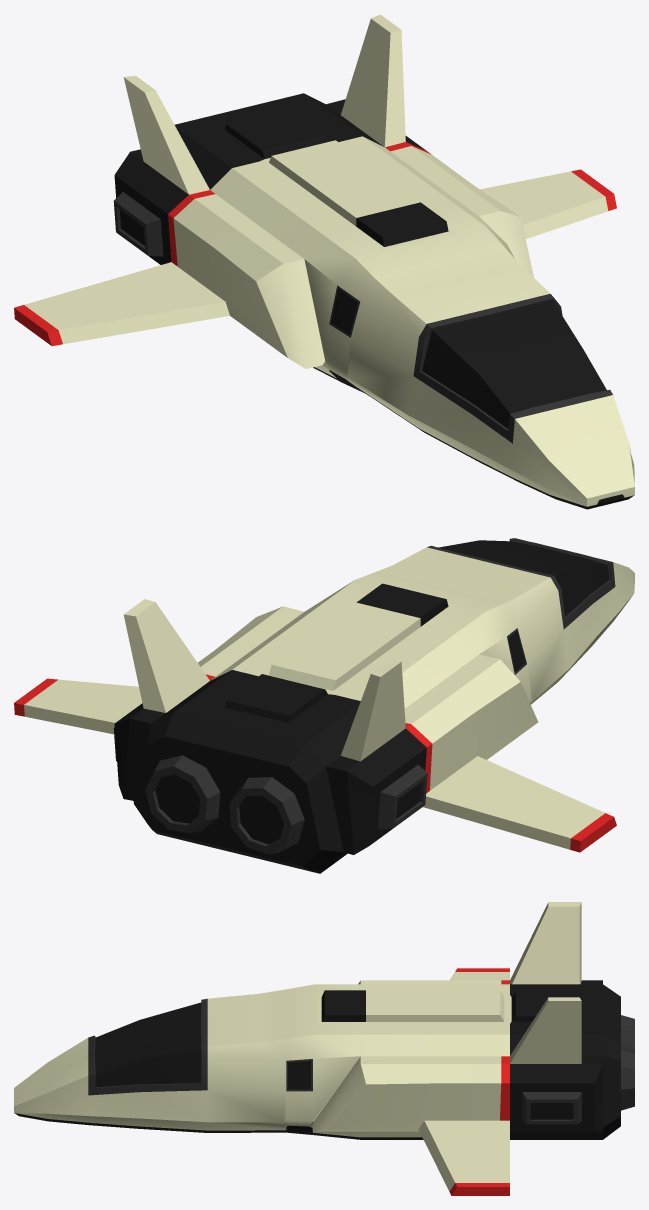
File: SpaceShip.fbx
3 views of the same model, one above another, from view 1: azimuth 30°, elevation 25°; view 2: azimuth 150°, elevation 25°; view 3: azimuth 270°, elevation 25° (orthographic). The views are drawn at different scales.
Parts seen in each view (by area): view 1: Cube; view 2: Cube; view 3: Cube.
Part boxes in pixels (x1,y1,x2,y2): Cube: (14,14,634,509); Cube: (14,538,634,873); Cube: (14,902,634,1195).
Size of the model in its own units: 391 by 131 by 469.
